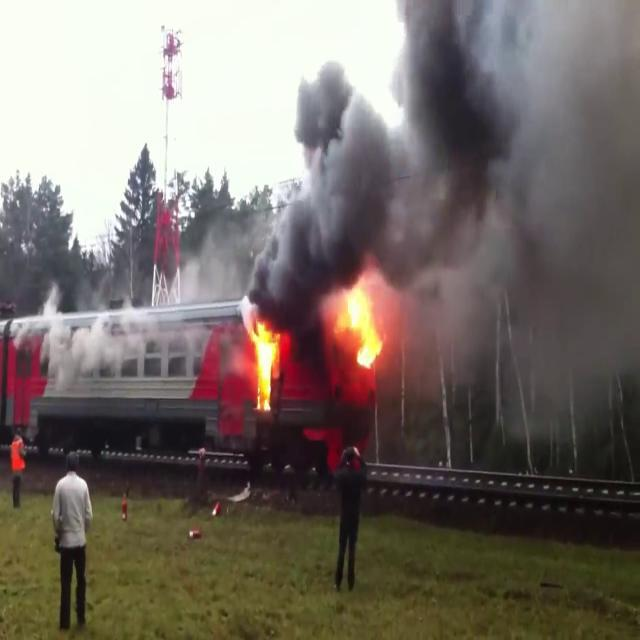Fire: (332, 270, 390, 374), (242, 313, 287, 408)
Smoke: (248, 0, 640, 367), (35, 205, 240, 408), (177, 200, 248, 308)
